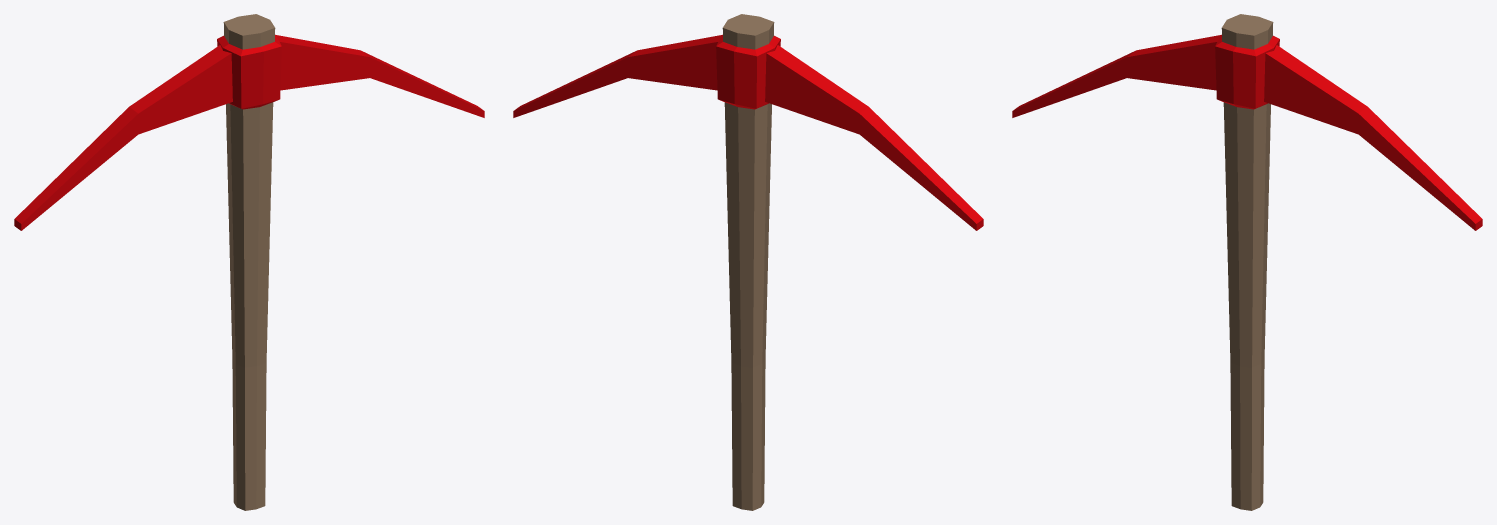
The model's file is picareta.fbx.
3 views of the same model, side by side, from view 1: azimuth 30°, elevation 25°; view 2: azimuth 150°, elevation 25°; view 3: azimuth 330°, elevation 25° (orthographic).
Parts seen in each view (by area): view 1: Cube.017; view 2: Cube.017; view 3: Cube.017.
Boxes of the visible parts, x1,y1,x2,y2 form: Cube.017: (14, 14, 484, 510); Cube.017: (513, 14, 983, 510); Cube.017: (1012, 14, 1482, 510).
Bounding box in the file's own units: 75.17 × 75.17 × 8.15.
